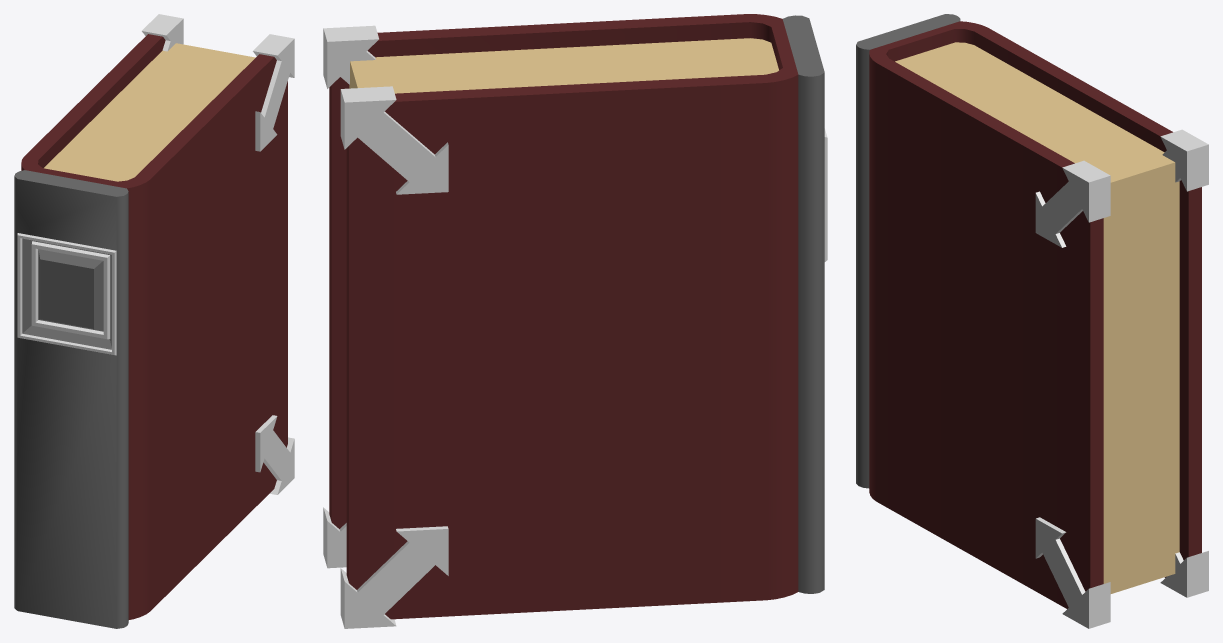
Rendered from obj_Book_04.fbx.
3 views of the same model, side by side, from view 1: azimuth 30°, elevation 25°; view 2: azimuth 150°, elevation 25°; view 3: azimuth 270°, elevation 25° (orthographic). The views are drawn at different scales.
Visible parts, largest first — view 1: Book_04, Book_EdgePattern.012; view 2: Book_04, Book_EdgePattern.012; view 3: Book_04, Book_EdgePattern.012.
Boxes of the visible parts, x1=… form: Book_04: x1=14, y1=34, x2=287, y2=628; Book_EdgePattern.012: x1=142, y1=14, x2=294, y2=494; Book_04: x1=329, y1=14, x2=827, y2=619; Book_EdgePattern.012: x1=323, y1=25, x2=448, y2=628; Book_04: x1=856, y1=14, x2=1201, y2=608; Book_EdgePattern.012: x1=1035, y1=129, x2=1208, y2=628.
Size of the model in its own units: 0.2353 by 0.2833 by 0.2029.
